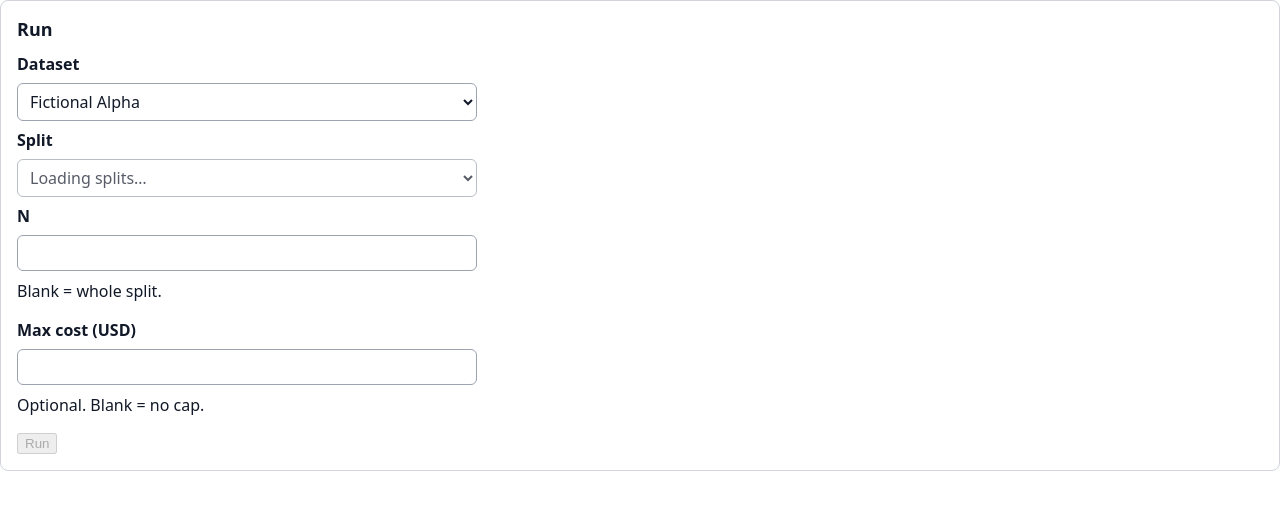
Scenario: RunPanel request lifetime › aborts old metadata on selection and does not apply its late splits
Select "Fictional Beta" in the dropdown labelled "Dataset": (247, 102) [17,83,477,121]
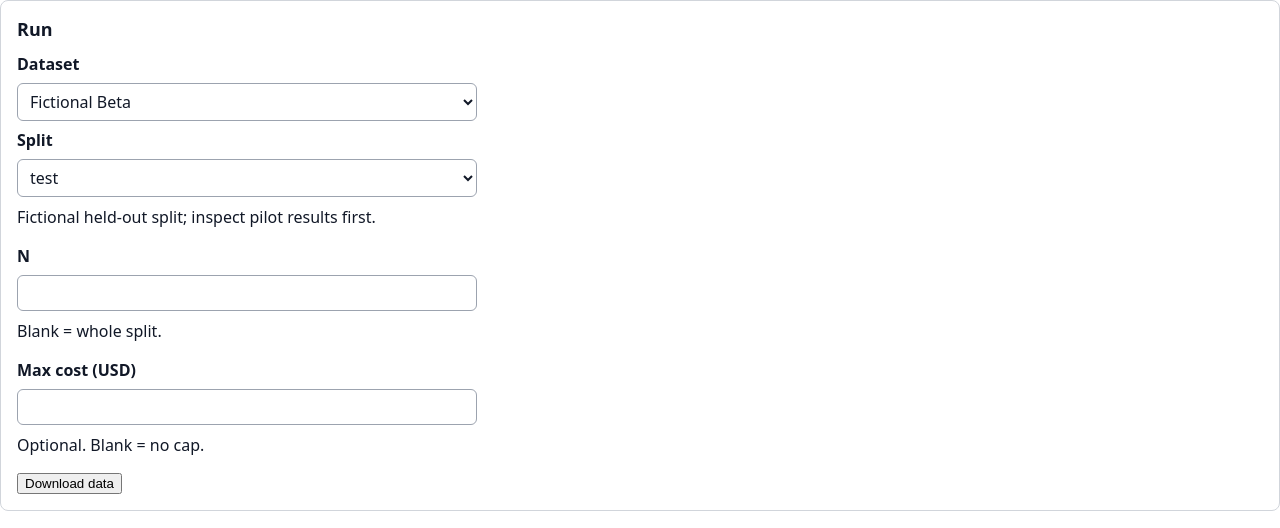
Check: the dropdown labelled "Split" shows "test", box [17,159,477,197]
